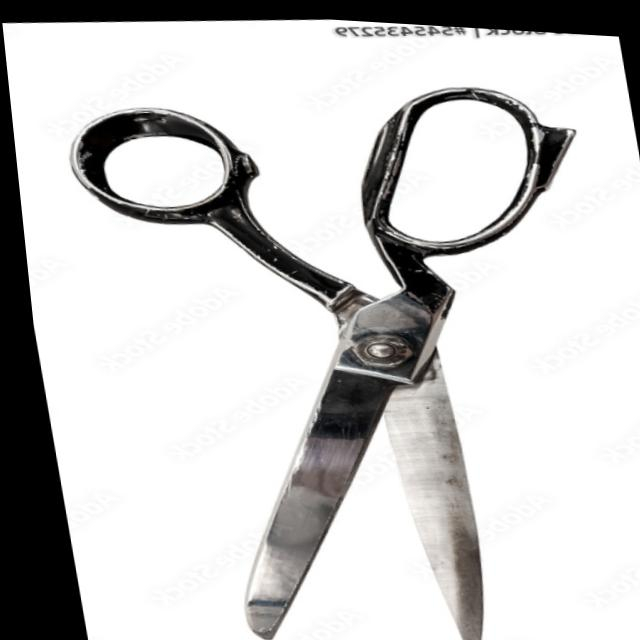scissor: (44, 45, 640, 640)
